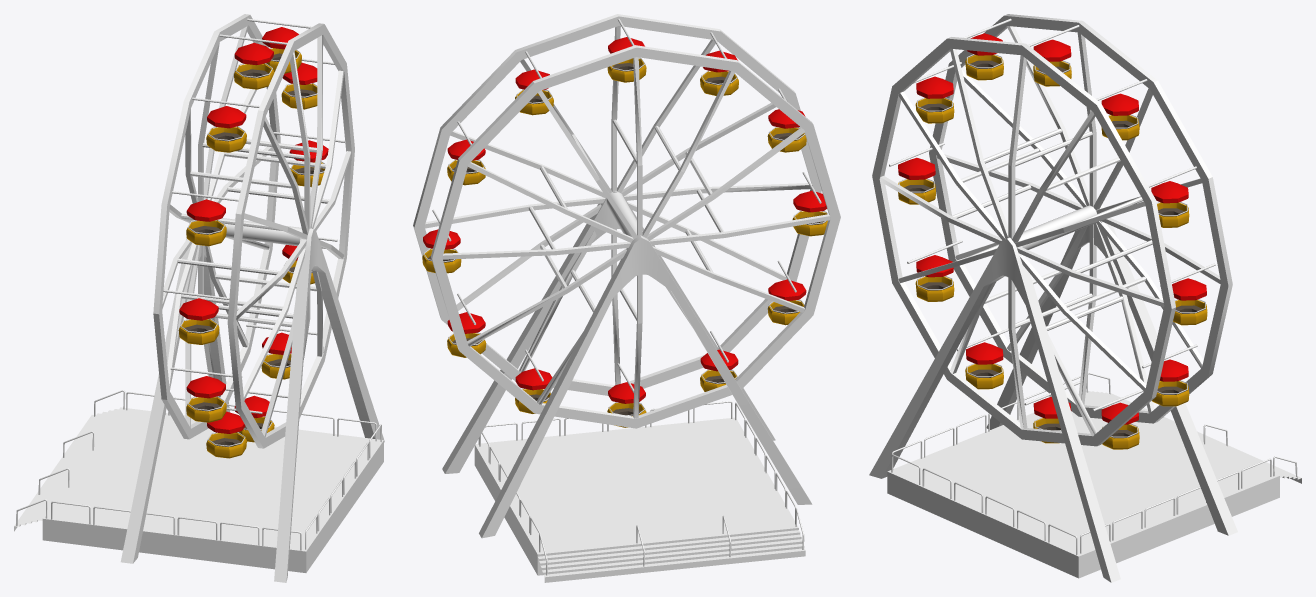
File: riesenrad.fbx
The picture shows the model from 3 angles, left to right: view 1: azimuth 30°, elevation 25°; view 2: azimuth 150°, elevation 25°; view 3: azimuth 270°, elevation 25°; orthographic projection. The views are drawn at different scales.
Visible parts, largest first — view 1: Würfel, Zylinder, Rad_3, Stütze_Instanz, Rad_6, Zylinder_2, Stütze, Würfel_Instance, Würfel_Instance_3, Würfel_Instance_2, Würfel_Instance_4, Würfel_2 (+8 smaller); view 2: Würfel, Rad_6, Zylinder_2, Rad_3, Zylinder, Stütze, Stütze_Instanz, Würfel_Instance_4, Würfel_Instance_3, Würfel_Instance_2, Würfel_2, Würfel_Instance (+8 smaller); view 3: Würfel, Rad_3, Zylinder, Rad_6, Zylinder_2, Stütze_Instanz, Stütze, Würfel_Instance_5, Würfel_Instance_2, Würfel_Instance_9, Würfel_Instance_4, Würfel_Instance_10 (+8 smaller).
Boxes of the visible parts, x1,y1,x2,y2 form: Würfel: (14,407,383,572); Zylinder: (236,35,351,437); Rad_3: (227,23,354,448); Stütze_Instanz: (274,228,384,582); Rad_6: (153,14,280,439); Zylinder_2: (162,25,273,428); Stütze: (120,223,229,563); Würfel_Instance: (206,106,246,152); Würfel_Instance_3: (178,298,219,344); Würfel_Instance_2: (186,199,226,246); Würfel_Instance_4: (186,376,226,422); Würfel_2: (234,42,274,89); Würfel: (474,417,805,582); Rad_6: (431,45,840,428); Zylinder_2: (442,57,830,418); Rad_3: (413,14,821,395); Zylinder: (424,26,812,385); Stütze: (479,235,812,538); Stütze_Instanz: (442,188,775,473); Würfel_Instance_4: (767,279,806,325); Würfel_Instance_3: (792,190,827,236); Würfel_Instance_2: (767,109,806,152); Würfel_2: (607,37,646,82); Würfel_Instance: (700,50,738,95); Würfel: (887,390,1301,578); Rad_3: (872,37,1175,446); Zylinder: (880,48,1164,435); Rad_6: (929,14,1232,423); Zylinder_2: (937,26,1220,413); Stütze_Instanz: (869,237,1120,582); Stütze: (986,204,1237,535); Würfel_Instance_5: (965,342,1003,389); Würfel_Instance_2: (915,76,954,123); Würfel_Instance_9: (1172,278,1207,325); Würfel_Instance_4: (915,255,954,301); Würfel_Instance_10: (1151,181,1189,227).
Size of the model in its own units: 2154 by 2603 by 2151.
